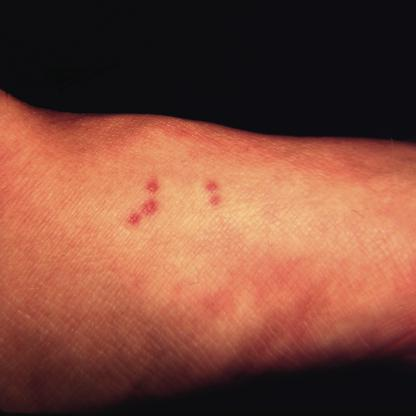Fire ant: (123, 174, 166, 230), (196, 176, 227, 216)
